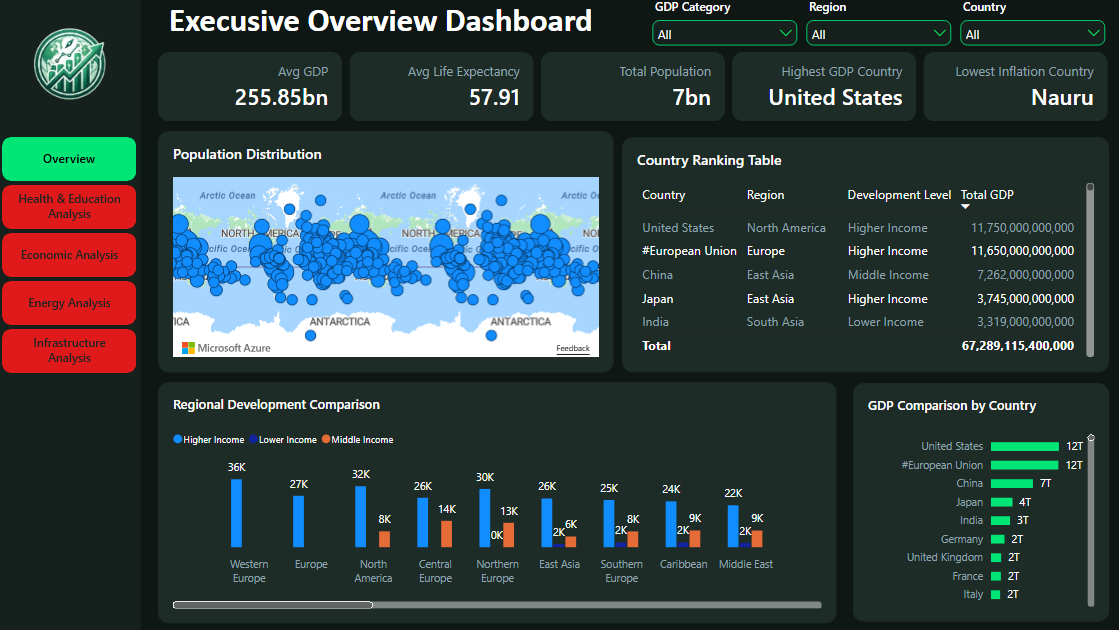

What the dashboard file says about the page in this screenshot:
{"tool":"powerbi","page":{"name":"Overview","canvas":[1280,720],"ordinal":0},"visuals":[{"type":"shape","box":[0,0,163,719.5],"z":0},{"type":"textbox","box":[195.4,0,505.3,51.2],"z":1000},{"type":"tableEx","title":"Country Ranking Table","fields":{"Values":["Dim Country.Country","Dim Country.Region","Dim Country.Development Level","DAX Measures.Total GDP"]},"box":[711.4,157.6,555.1,268.1],"z":2000},{"type":"cardVisual","fields":{"Data":["DAX Measures.Avg GDP","DAX Measures.Avg Life Expectancy","DAX Measures.Total Population","DAX Measures.Highest GDP Country","DAX Measures.Lowest Inflation Country"]},"box":[181.9,60.6,1084.6,79.5],"z":3000},{"type":"azureMap","title":"Population Distribution","fields":{"Category":["Dim Country.Country"],"Size":["DAX Measures.Total Population"]},"box":[181.9,150.9,518.7,274.9],"z":4000},{"type":"image","box":[21.6,0,119.9,172.5],"z":5000},{"type":"slicer","fields":{"Values":["Dim Country.Country"]},"box":[1091.4,0,175.2,60.6],"z":6000},{"type":"pageNavigator","box":[4.6,157.2,153.8,50.1],"z":7000},{"type":"pageNavigator","box":[4.6,211.9,153.8,50.1],"z":8000},{"type":"pageNavigator","box":[4.6,266.6,153.8,50.1],"z":9000},{"type":"pageNavigator","box":[4.6,321.3,153.8,50.1],"z":10000},{"type":"pageNavigator","box":[4.6,375.9,153.8,50.1],"z":11000},{"type":"clusteredColumnChart","title":"Regional Development Comparison","fields":{"Category":["Dim Country.Region"],"Series":["Dim Country.Development Level"],"Y":["DAX Measures.Avg GDP per Capita"]},"box":[181.9,436.5,773.4,274.9],"z":12000},{"type":"barChart","title":"GDP Comparison by Country","fields":{"Category":["Dim Country.Country"],"Y":["DAX Measures.Avg GDP"]},"box":[974.1,437.9,292.4,272.2],"z":13000},{"type":"slicer","fields":{"Values":["Dim Country.Region"]},"box":[916.2,0,175.2,60.6],"z":14000},{"type":"slicer","fields":{"Values":["Dim Country.GDP Category"]},"box":[741.1,0,175.2,60.6],"z":15000}]}

Visuals, with their boxes on the page's 1280x720 design canvas (x1, y1, x2, y2). These are canvas units, not pixel positions in the 1119x630 screenshot, which may show the page scaled, cropped or inside an application window:
shape: {"x1": 0, "y1": 0, "x2": 163, "y2": 720}
textbox: {"x1": 195, "y1": 0, "x2": 701, "y2": 51}
"Country Ranking Table" tableEx: {"x1": 711, "y1": 158, "x2": 1266, "y2": 426}
cardVisual - DAX Measures.Avg GDP x DAX Measures.Avg Life Expectancy: {"x1": 182, "y1": 61, "x2": 1266, "y2": 140}
"Population Distribution" azureMap: {"x1": 182, "y1": 151, "x2": 701, "y2": 426}
image: {"x1": 22, "y1": 0, "x2": 142, "y2": 172}
slicer - Dim Country.Country: {"x1": 1091, "y1": 0, "x2": 1267, "y2": 61}
pageNavigator: {"x1": 5, "y1": 157, "x2": 158, "y2": 207}
pageNavigator: {"x1": 5, "y1": 212, "x2": 158, "y2": 262}
pageNavigator: {"x1": 5, "y1": 267, "x2": 158, "y2": 317}
pageNavigator: {"x1": 5, "y1": 321, "x2": 158, "y2": 371}
pageNavigator: {"x1": 5, "y1": 376, "x2": 158, "y2": 426}
"Regional Development Comparison" clusteredColumnChart: {"x1": 182, "y1": 436, "x2": 955, "y2": 711}
"GDP Comparison by Country" barChart: {"x1": 974, "y1": 438, "x2": 1266, "y2": 710}
slicer - Dim Country.Region: {"x1": 916, "y1": 0, "x2": 1091, "y2": 61}
slicer - Dim Country.GDP Category: {"x1": 741, "y1": 0, "x2": 916, "y2": 61}
